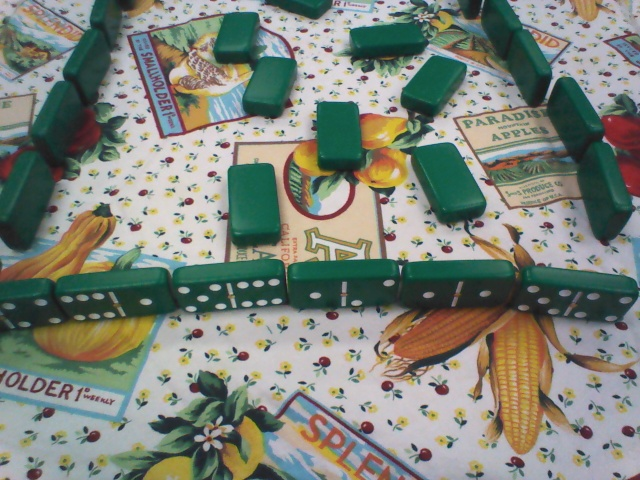A: (395, 137, 495, 225), (222, 160, 288, 248), (397, 44, 468, 116), (307, 99, 371, 174), (246, 49, 303, 123), (202, 4, 261, 69), (346, 17, 431, 59)
C: (2, 149, 56, 251), (31, 77, 85, 168), (57, 28, 118, 102), (86, 1, 133, 46)
D: (541, 71, 610, 162), (574, 140, 631, 247), (495, 28, 553, 107), (480, 1, 522, 59)
E: (392, 245, 518, 321), (511, 258, 639, 330), (165, 258, 290, 318), (52, 267, 176, 323), (282, 255, 400, 313), (2, 276, 59, 346)
